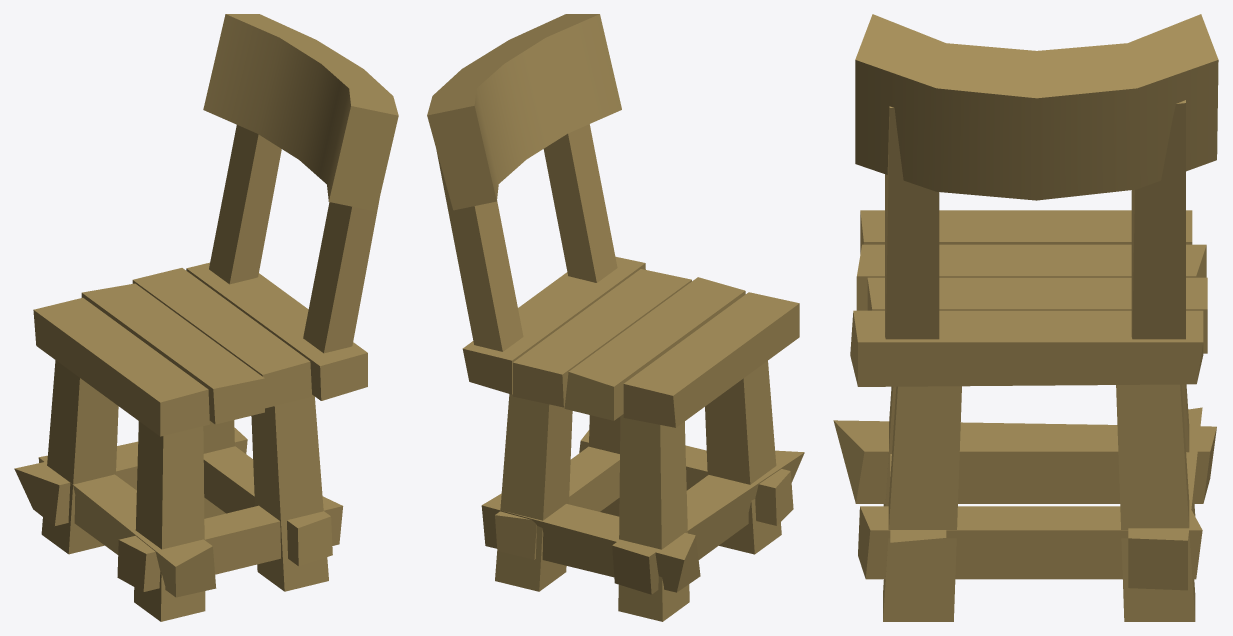
File: Chair_v1_001.fbx
3 views of the same model, side by side, from view 1: azimuth 30°, elevation 25°; view 2: azimuth 150°, elevation 25°; view 3: azimuth 270°, elevation 25° (orthographic). The views are drawn at different scales.
Parts seen in each view (by area): view 1: Chair_v1_001; view 2: Chair_v1_001; view 3: Chair_v1_001.
Boxes of the visible parts, bbox=[...] form: Chair_v1_001: bbox=[14, 14, 398, 621]; Chair_v1_001: bbox=[427, 14, 804, 621]; Chair_v1_001: bbox=[833, 14, 1218, 621].
Bounding box in the file's own units: 56.51 × 89.3 × 50.31.
